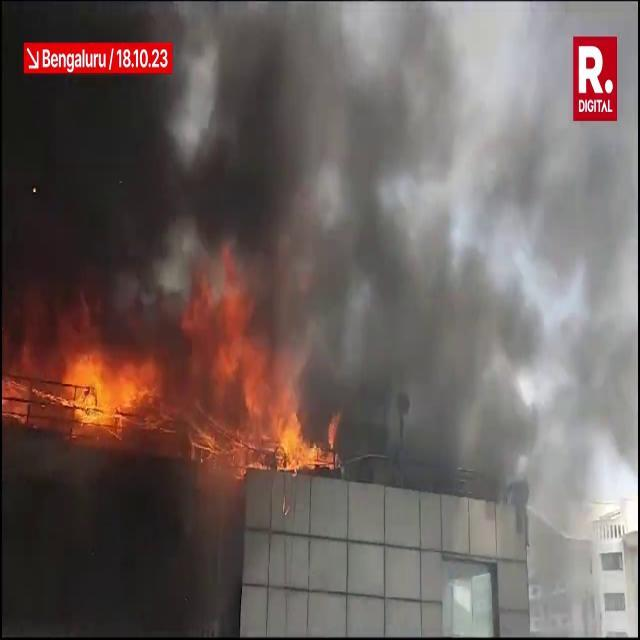Fire: (199, 312, 331, 484), (5, 338, 159, 430)
Smoke: (6, 4, 618, 444)
